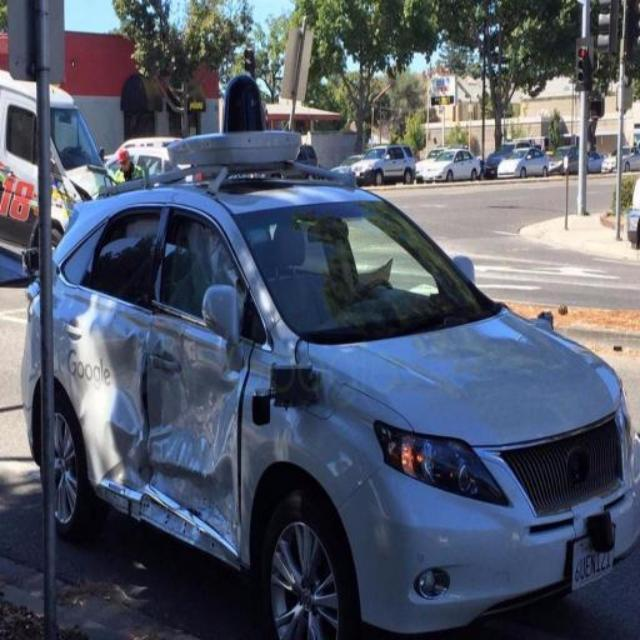dent: (77, 289, 246, 564)
